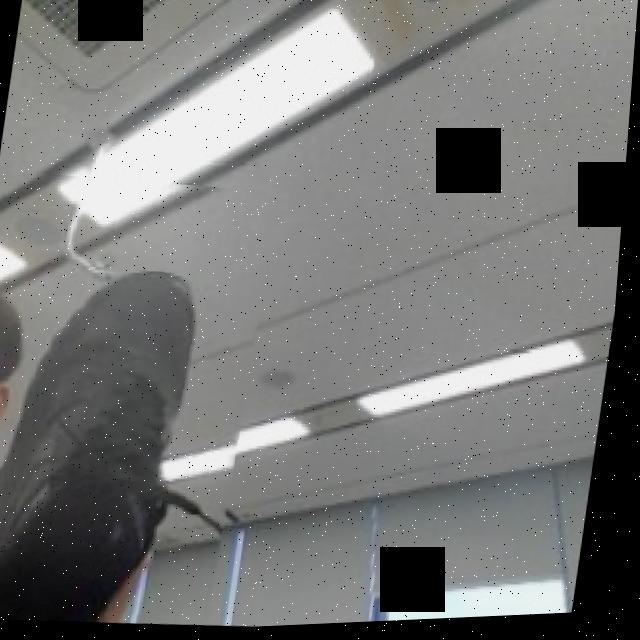shoe: (0, 160, 285, 637)
